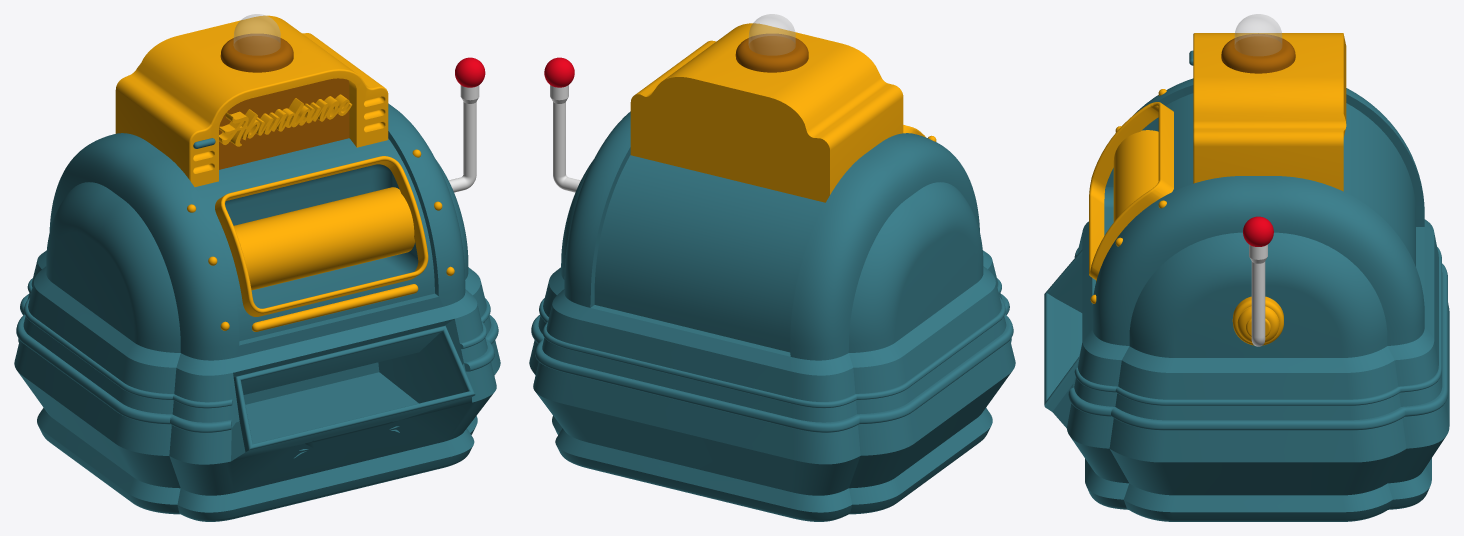
Rendered from Machine.glb.
The picture shows the model from 3 angles, left to right: view 1: azimuth 30°, elevation 25°; view 2: azimuth 150°, elevation 25°; view 3: azimuth 270°, elevation 25°; orthographic projection.
Parts seen in each view (by area): view 1: Cube.002, Plane.002, Cylinder.002, Cube.003, Curve, Cylinder.009, Cylinder.011, Cylinder.007, Sphere.002; view 2: Cube.002, Plane.002, Cylinder.009, Cylinder.011, Cylinder.007, Sphere.002; view 3: Cube.002, Plane.002, Cube.003, Cylinder.002, Cylinder.009, Cylinder.011, Cylinder.007, Cylinder.012, Sphere.002.
Part boxes in pixels (x1,y1,x2,y2): Cube.002: (14,103,500,521); Plane.002: (115,15,388,186); Cylinder.002: (234,187,414,290); Cube.003: (215,156,428,331); Curve: (219,94,352,146); Cylinder.009: (220,33,293,72); Cylinder.011: (234,14,280,55); Cylinder.007: (448,85,479,192); Sphere.002: (455,57,485,87); Cube.002: (529,111,1015,521); Plane.002: (630,23,903,202); Cylinder.009: (735,33,808,72); Cylinder.011: (749,14,795,55); Cylinder.007: (550,85,580,192); Sphere.002: (544,57,574,87); Cube.002: (1044,78,1449,521); Plane.002: (1193,33,1346,191); Cube.003: (1089,102,1173,281); Cylinder.002: (1113,130,1158,221); Cylinder.009: (1221,33,1295,73); Cylinder.011: (1235,14,1281,55); Cylinder.007: (1249,244,1267,346); Cylinder.012: (1232,296,1283,345); Sphere.002: (1243,216,1273,246).
Size of the model in its own units: 2.01 by 1.94 by 1.67.
